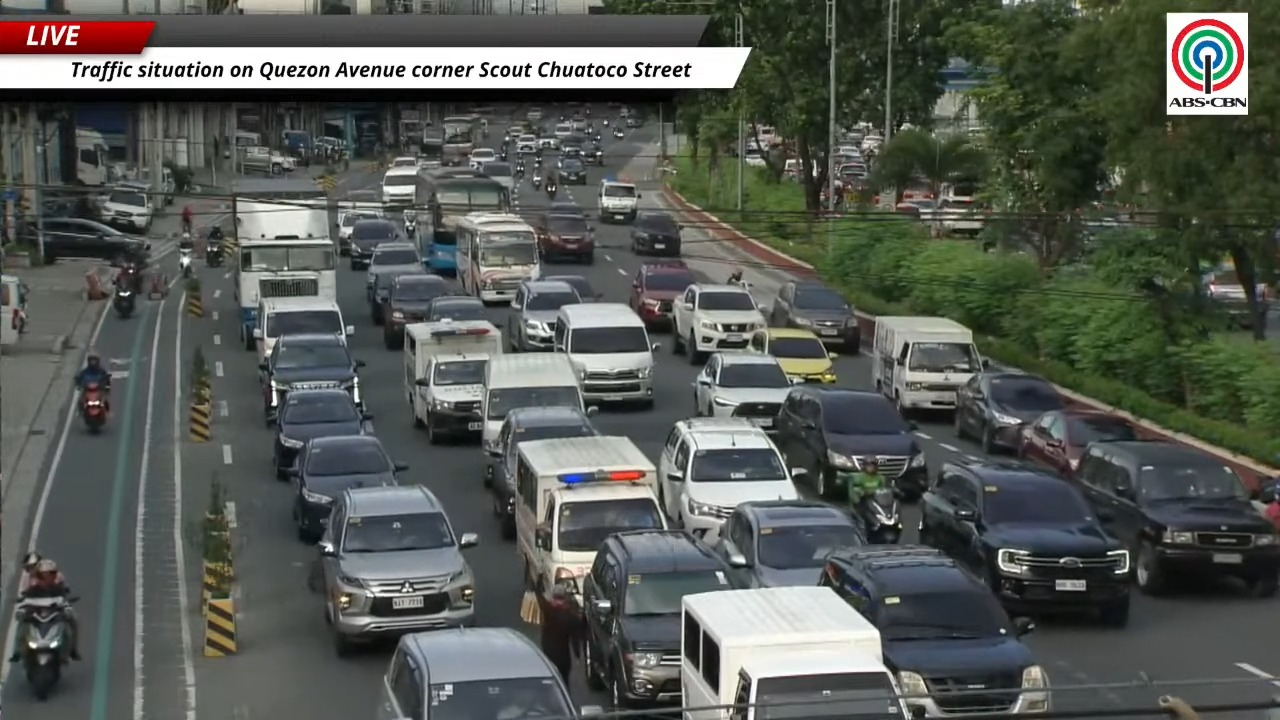bus: (233, 199, 336, 349), (415, 169, 510, 274), (457, 212, 540, 303), (231, 178, 327, 203), (441, 115, 480, 166), (417, 129, 443, 169)
car: (820, 545, 1049, 716), (919, 460, 1129, 626), (1072, 440, 1279, 597), (317, 484, 478, 655), (582, 530, 732, 708), (658, 418, 805, 542), (776, 385, 927, 500), (483, 406, 598, 539), (285, 434, 406, 543), (715, 500, 863, 587), (259, 334, 363, 426), (954, 370, 1064, 454), (273, 389, 371, 479), (1016, 408, 1139, 476), (694, 353, 793, 432), (672, 283, 766, 364), (768, 280, 860, 353), (381, 272, 455, 349), (507, 280, 580, 351), (43, 218, 149, 266), (748, 327, 836, 383), (629, 260, 696, 327), (1200, 266, 1272, 328), (365, 241, 422, 304), (529, 209, 593, 263), (369, 268, 421, 325), (348, 218, 400, 270), (101, 183, 154, 232), (630, 211, 681, 256), (337, 209, 383, 255), (541, 274, 602, 302), (424, 295, 487, 321), (481, 160, 515, 193), (557, 148, 586, 185), (547, 200, 584, 217), (469, 148, 497, 169), (584, 139, 604, 166), (515, 133, 538, 155), (390, 156, 417, 166), (625, 115, 642, 127)
motorcycle: (17, 598, 77, 701), (858, 487, 902, 544), (81, 382, 107, 433), (112, 286, 135, 318), (205, 243, 223, 267), (179, 249, 192, 278), (404, 217, 416, 236), (545, 182, 557, 200), (531, 176, 542, 190), (613, 127, 624, 138), (534, 157, 542, 168), (602, 118, 609, 126)
truck: (681, 586, 909, 719), (516, 436, 666, 596), (403, 321, 503, 443), (871, 316, 985, 413), (75, 127, 111, 186), (238, 146, 296, 174), (282, 129, 314, 166)
